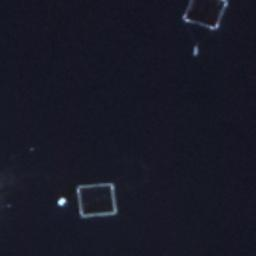square_solid: (72, 179, 122, 222), (178, 1, 232, 31)
